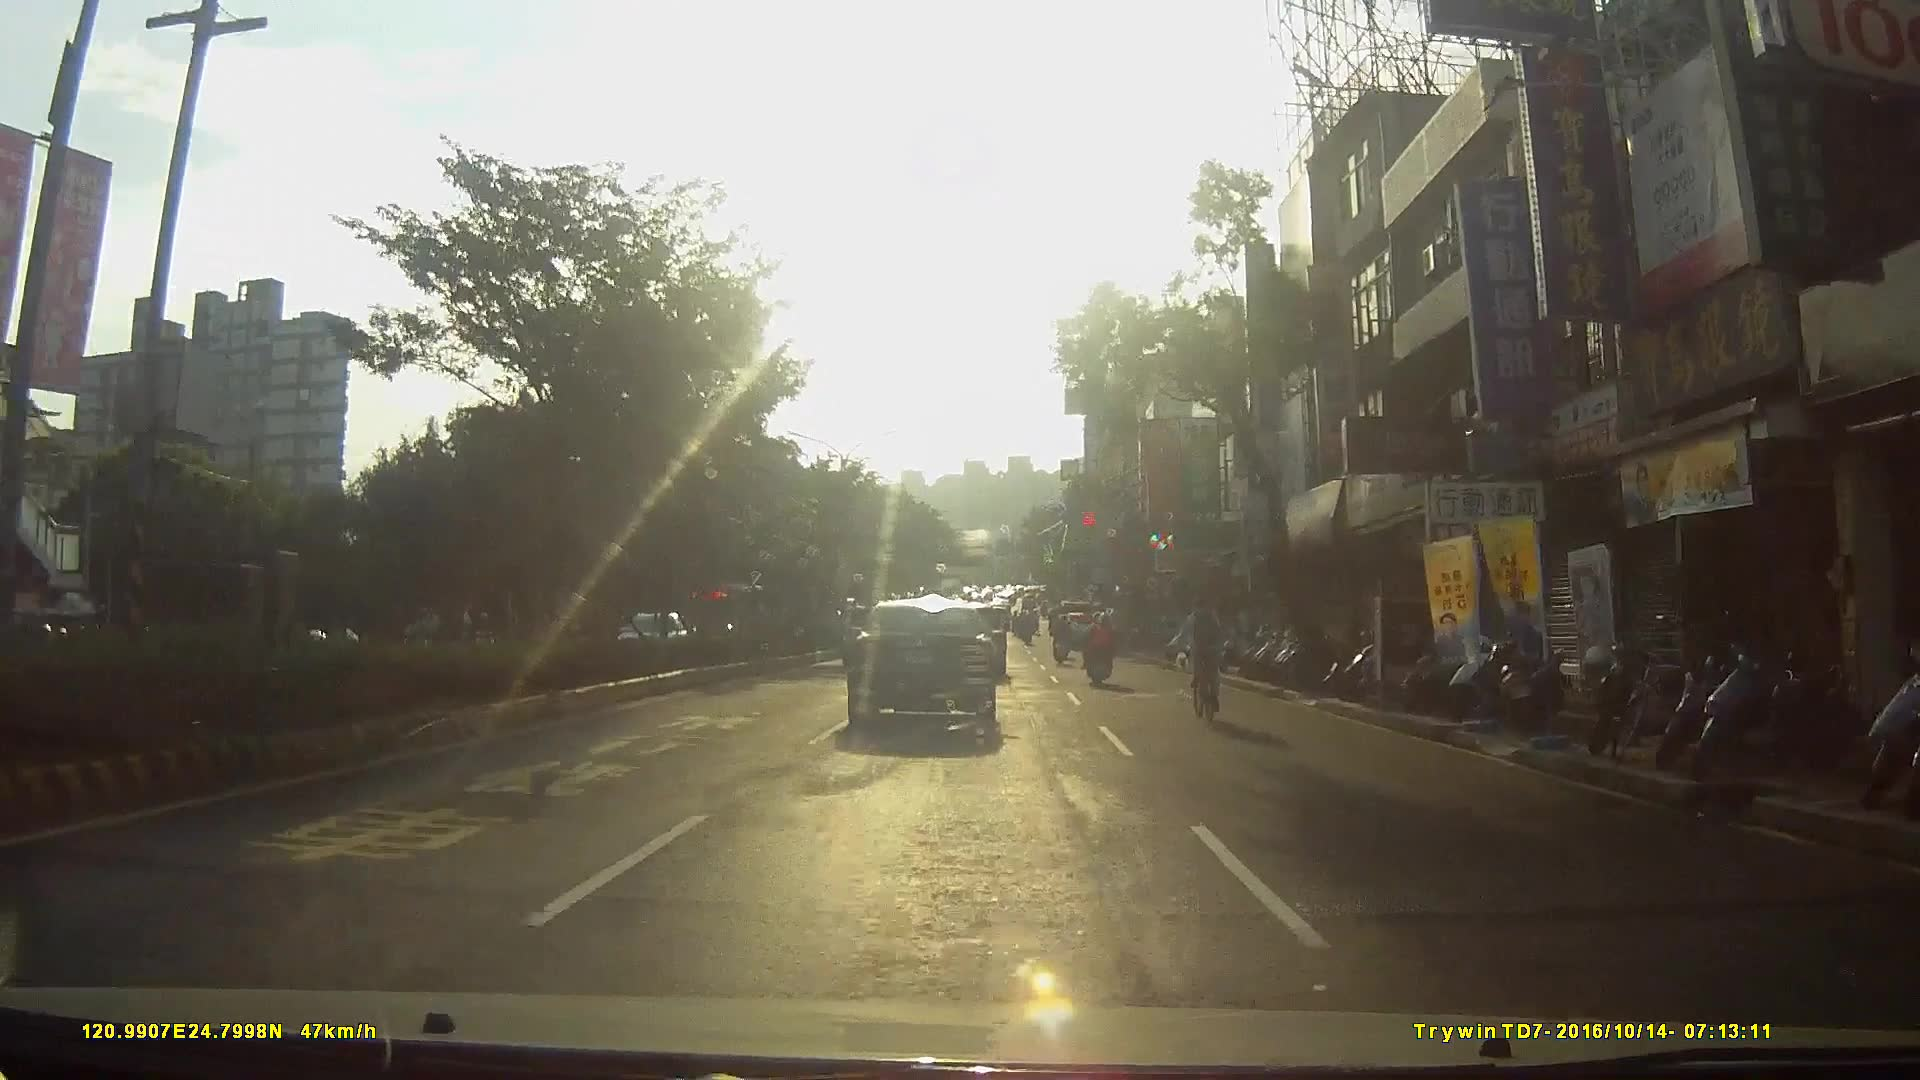rider: (1179, 589, 1239, 727), (1083, 612, 1117, 688), (1050, 613, 1073, 668)
vehicle: (845, 606, 1010, 752)
